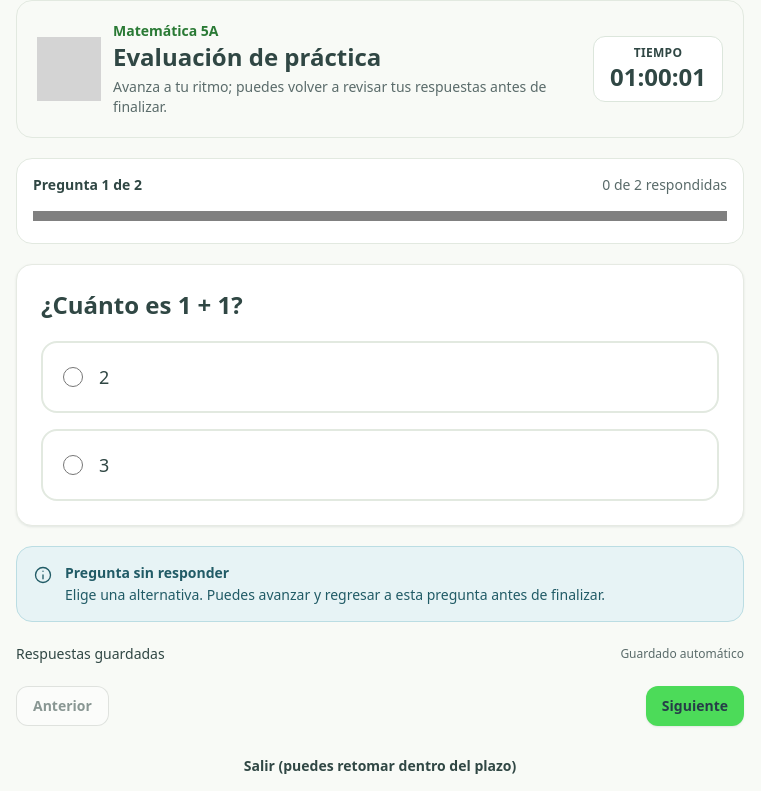
Test: StudentAttempt › guarda al seleccionar y Siguiente solo navega sin mostrar corrección
expect the text "¿Cuánto es 1 + 1?" is shown: met, box [41,289,243,321]
expect the text "Pregunta sin responder" is shown: met, box [65,563,229,582]
Click the radio button labelled "2" at [73, 377], box [63,367,83,387]
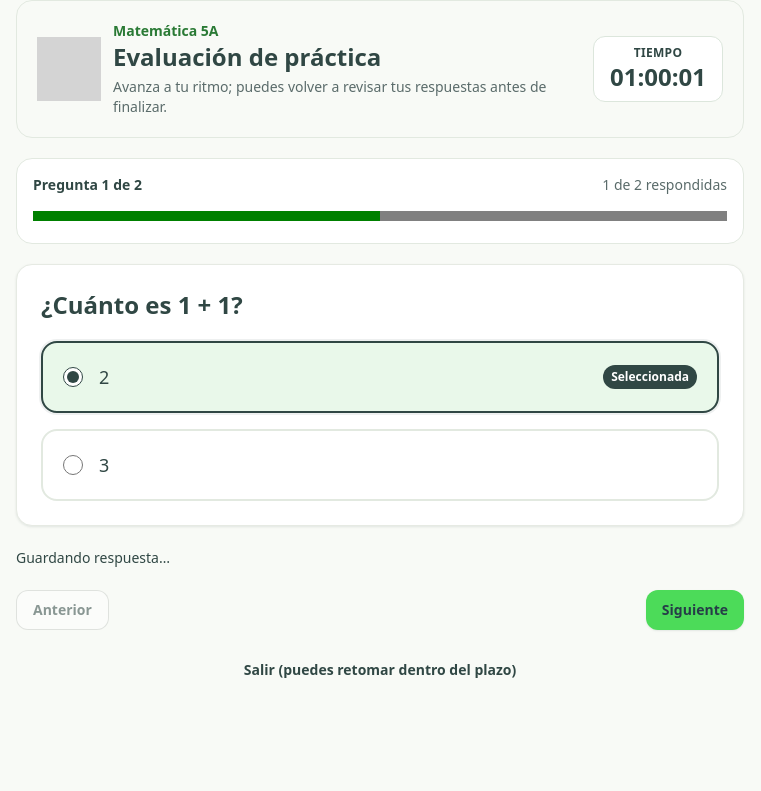
expect the text "Pregunta sin responder" is gone: met
Click the button "Siguiente" at [695, 610], box [646,590,744,630]
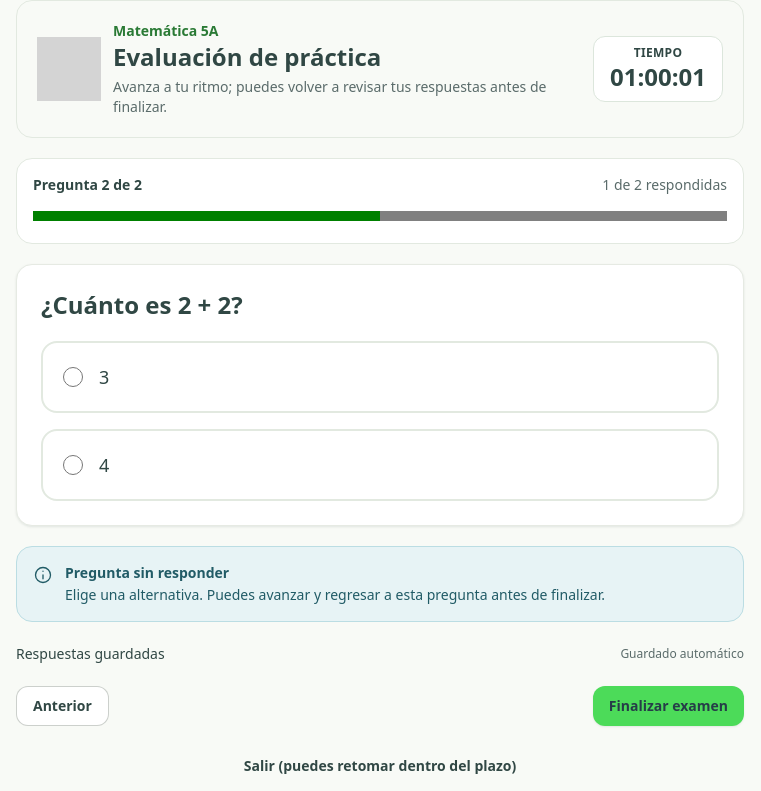
expect the text "¿Cuánto es 2 + 2?" is shown: met, box [41,289,243,321]
Click the button "Anterior" at [62, 706], box [16,686,109,726]
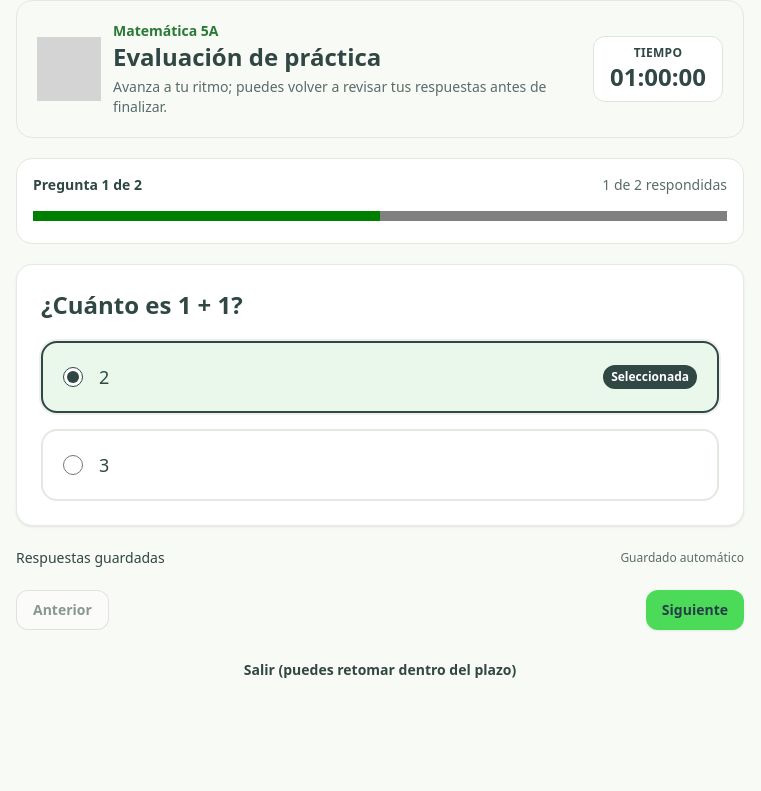
expect the text "¿Cuánto es 1 + 1?" is shown: met, box [41,289,243,321]
